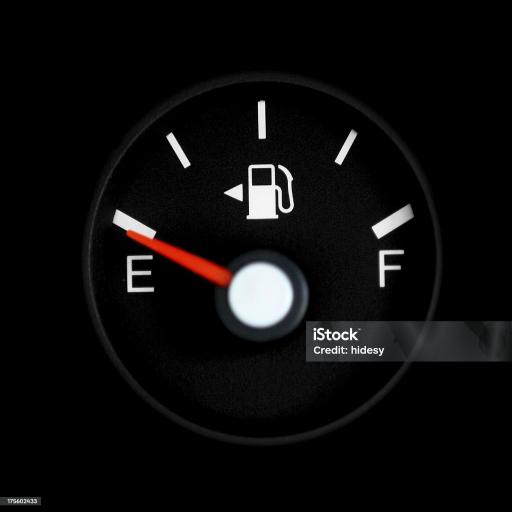empty: (125, 254, 157, 296)
fuel_icon: (245, 162, 298, 222)
full: (376, 247, 408, 289)
guage_area: (85, 84, 446, 444)
needle_center: (218, 253, 313, 337)
needle_tip: (122, 225, 146, 246)
